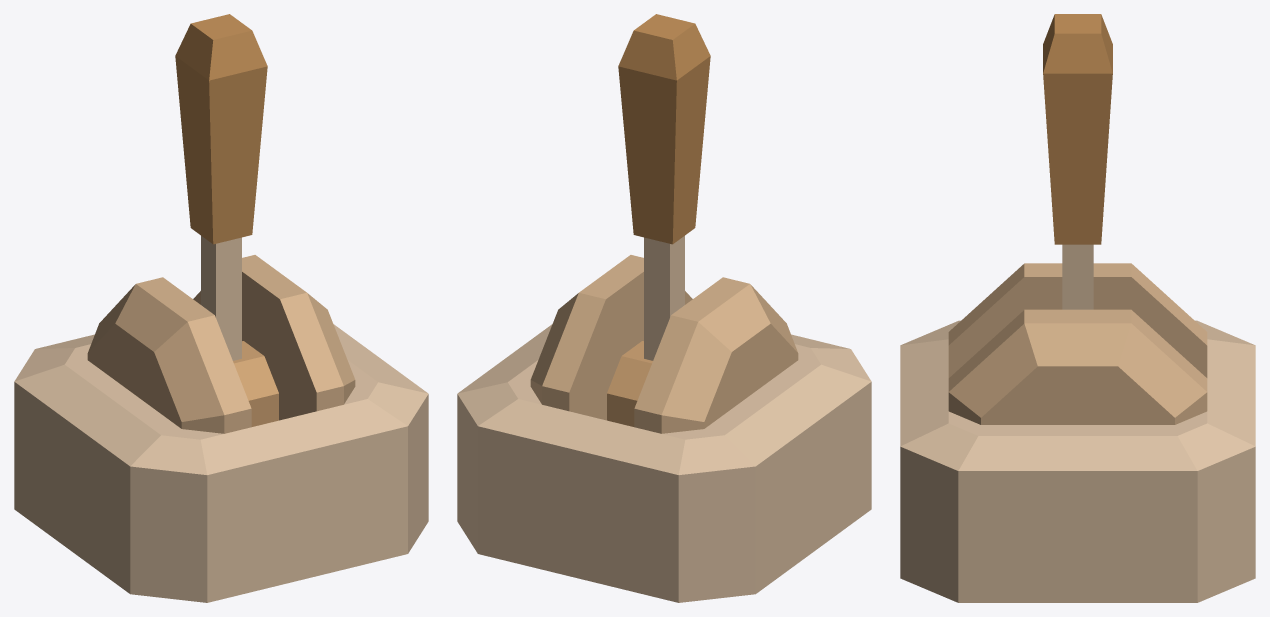
File: Puzzle_Control_Lever.fbx
3 views of the same model, side by side, from view 1: azimuth 30°, elevation 25°; view 2: azimuth 150°, elevation 25°; view 3: azimuth 270°, elevation 25° (orthographic). The views are drawn at different scales.
Parts seen in each view (by area): view 1: Sandstone_Trim.Sandstone_Trim.Sandstone_Trim.Sandstone_Trim., Sandstone_4.Sandstone_4.Sandstone_4.Sandstone_4.Sandstone_4., Sandstone_6.object1, Sandstone_Trim.Sandstone_Trim, Sandstone_5.Sandstone_5; view 2: Sandstone_Trim.Sandstone_Trim.Sandstone_Trim.Sandstone_Trim., Sandstone_4.Sandstone_4.Sandstone_4.Sandstone_4.Sandstone_4., Sandstone_6.object1, Sandstone_Trim.Sandstone_Trim, Sandstone_5.Sandstone_5; view 3: Sandstone_Trim.Sandstone_Trim.Sandstone_Trim.Sandstone_Trim., Sandstone_4.Sandstone_4.Sandstone_4.Sandstone_4.Sandstone_4., Sandstone_6.object1, Sandstone_Trim.Sandstone_Trim.
Part boxes in pixels (x1,y1,x2,y2): Sandstone_Trim.Sandstone_Trim.Sandstone_Trim.Sandstone_Trim.: (14,324,428,602); Sandstone_4.Sandstone_4.Sandstone_4.Sandstone_4.Sandstone_4.: (87,255,355,433); Sandstone_6.object1: (175,14,267,244); Sandstone_Trim.Sandstone_Trim: (201,236,241,360); Sandstone_5.Sandstone_5: (233,341,278,426); Sandstone_Trim.Sandstone_Trim.Sandstone_Trim.Sandstone_Trim.: (457,324,871,602); Sandstone_4.Sandstone_4.Sandstone_4.Sandstone_4.Sandstone_4.: (530,255,798,433); Sandstone_6.object1: (618,14,710,244); Sandstone_Trim.Sandstone_Trim: (644,236,684,360); Sandstone_5.Sandstone_5: (607,341,652,426); Sandstone_Trim.Sandstone_Trim.Sandstone_Trim.Sandstone_Trim.: (900,320,1255,602); Sandstone_4.Sandstone_4.Sandstone_4.Sandstone_4.Sandstone_4.: (948,263,1207,424); Sandstone_6.object1: (1043,14,1112,244); Sandstone_Trim.Sandstone_Trim: (1062,244,1093,309).
Bounding box in the file's own units: 0.55 × 0.86 × 0.55.
